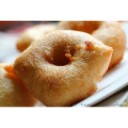vada: (17, 30, 114, 102), (57, 19, 126, 65)
